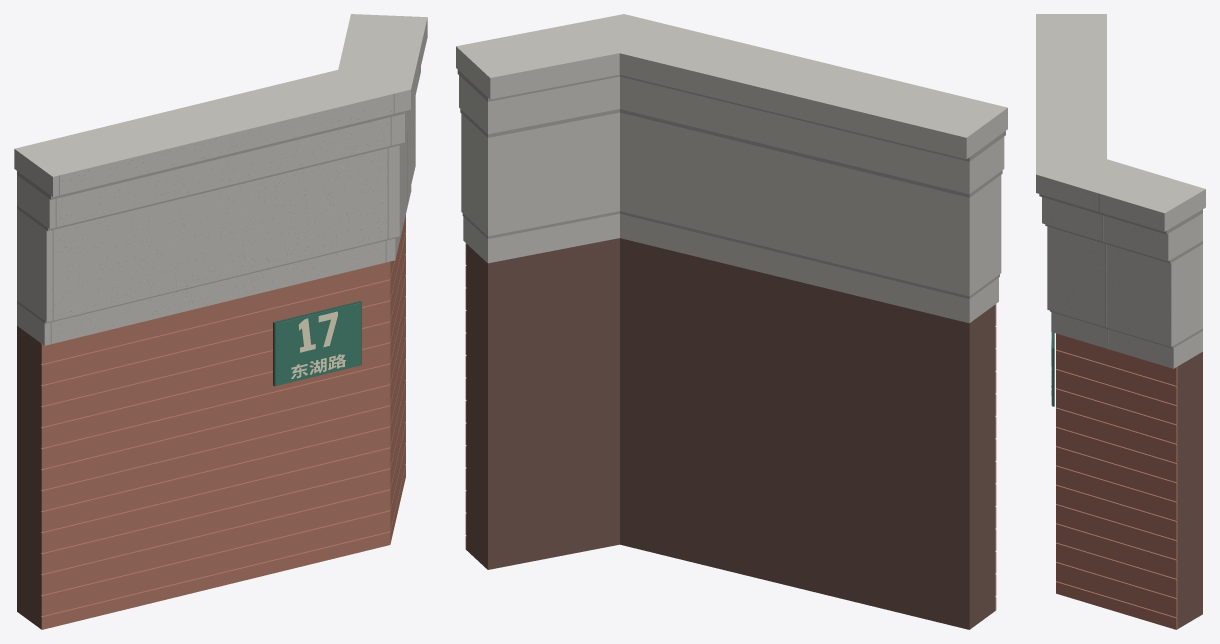
Rendered from full.glb.
3 views of the same model, side by side, from view 1: azimuth 30°, elevation 25°; view 2: azimuth 150°, elevation 25°; view 3: azimuth 270°, elevation 25° (orthographic). The views are drawn at different scales.
Visible parts, largest first — view 1: 东湖路17号花园住宅门牌与临街围墙; view 2: 东湖路17号花园住宅门牌与临街围墙; view 3: 东湖路17号花园住宅门牌与临街围墙.
Part boxes in pixels (box(x1,y1,x2,y2)): 东湖路17号花园住宅门牌与临街围墙: box(14, 14, 427, 629); 东湖路17号花园住宅门牌与临街围墙: box(456, 14, 1007, 629); 东湖路17号花园住宅门牌与临街围墙: box(1036, 14, 1205, 629).
Size of the model in its own units: 1.65 by 1.63 by 0.5931.
